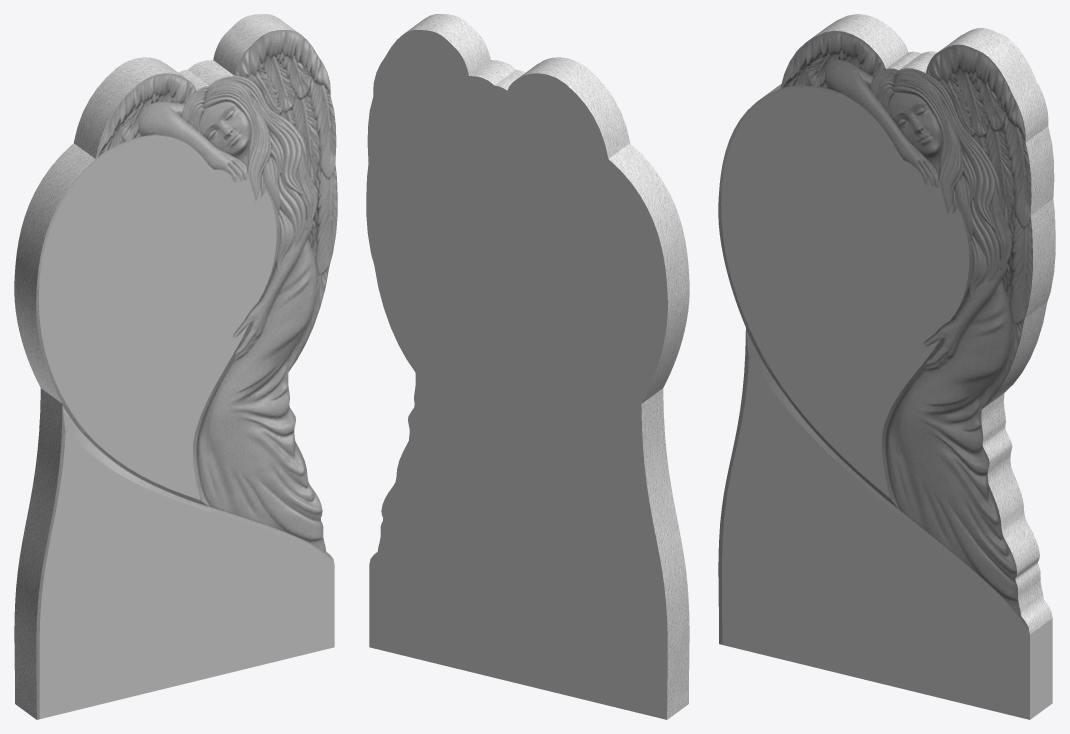
Rendered from cn44808c9641_tkf.glb.
The picture shows the model from 3 angles, left to right: view 1: azimuth 30°, elevation 25°; view 2: azimuth 150°, elevation 25°; view 3: azimuth 330°, elevation 25°; orthographic projection. The views are drawn at different scales.
Parts seen in each view (by area): view 1: Pam-d02-022, Pam-d02-022_2_notexture; view 2: Pam-d02-022, Pam-d02-022_2_notexture; view 3: Pam-d02-022, Pam-d02-022_2_notexture.
Part boxes in pixels (x1,y1,x2,y2): Pam-d02-022: (38, 137, 334, 718); Pam-d02-022_2_notexture: (14, 14, 337, 719); Pam-d02-022: (366, 30, 667, 719); Pam-d02-022_2_notexture: (404, 14, 689, 719); Pam-d02-022: (721, 88, 1052, 719); Pam-d02-022_2_notexture: (718, 14, 1055, 644).
Bounding box in the file's own units: 0.4 × 0.8 × 0.05.
Materials: 1 (1 with a texture image).
